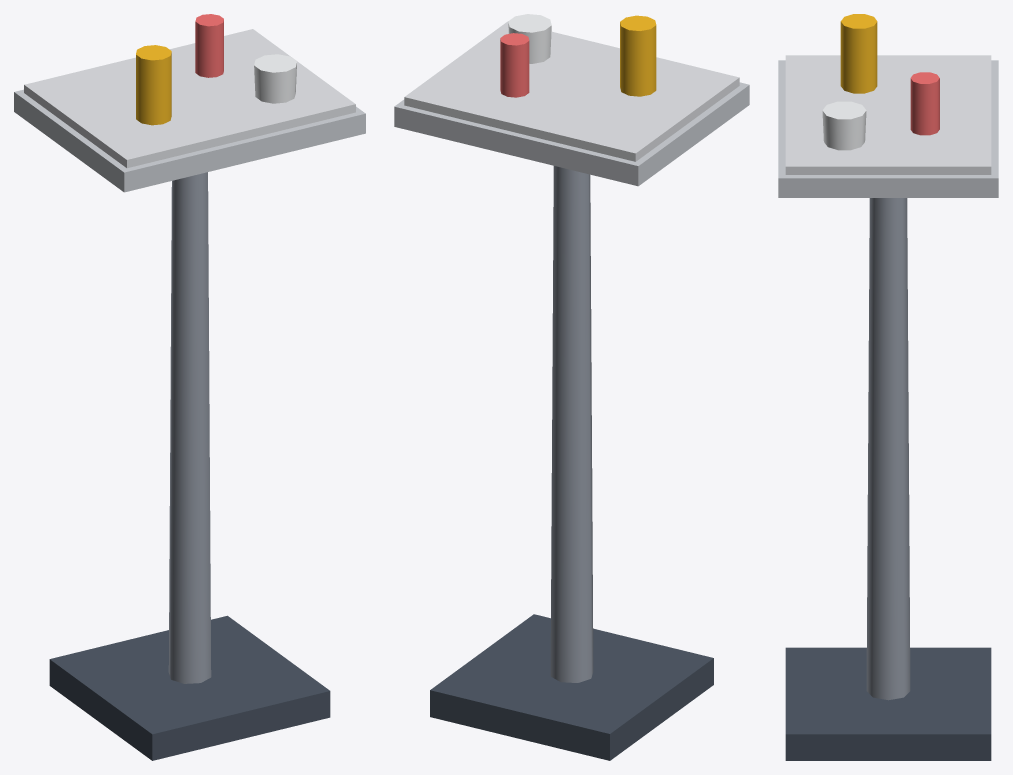
The model's file is parametric-source.glb.
The picture shows the model from 3 angles, left to right: view 1: azimuth 30°, elevation 25°; view 2: azimuth 150°, elevation 25°; view 3: azimuth 270°, elevation 25°; orthographic projection.
Parts seen in each view (by area): view 1: openclinxr.equipment.antipyretic_tray_equipment.base, openclinxr.equipment.antipyretic_tray_equipment.tray_surface, openclinxr.equipment.antipyretic_tray_equipment.stand, openclinxr.equipment.antipyretic_tray_equipment.tray_lip, openclinxr.equipment.antipyretic_tray_equipment.bottle_0, openclinxr.equipment.antipyretic_tray_equipment.med_cup, openclinxr.equipment.antipyretic_tray_equipment.bottle_1; view 2: openclinxr.equipment.antipyretic_tray_equipment.base, openclinxr.equipment.antipyretic_tray_equipment.tray_surface, openclinxr.equipment.antipyretic_tray_equipment.stand, openclinxr.equipment.antipyretic_tray_equipment.tray_lip, openclinxr.equipment.antipyretic_tray_equipment.bottle_0, openclinxr.equipment.antipyretic_tray_equipment.bottle_1, openclinxr.equipment.antipyretic_tray_equipment.med_cup; view 3: openclinxr.equipment.antipyretic_tray_equipment.base, openclinxr.equipment.antipyretic_tray_equipment.stand, openclinxr.equipment.antipyretic_tray_equipment.tray_surface, openclinxr.equipment.antipyretic_tray_equipment.tray_lip, openclinxr.equipment.antipyretic_tray_equipment.bottle_0, openclinxr.equipment.antipyretic_tray_equipment.med_cup, openclinxr.equipment.antipyretic_tray_equipment.bottle_1.
Part boxes in pixels (x1,y1,x2,y2): openclinxr.equipment.antipyretic_tray_equipment.base: (49,615,330,760); openclinxr.equipment.antipyretic_tray_equipment.tray_surface: (24,29,355,168); openclinxr.equipment.antipyretic_tray_equipment.stand: (168,172,211,683); openclinxr.equipment.antipyretic_tray_equipment.tray_lip: (14,89,365,192); openclinxr.equipment.antipyretic_tray_equipment.bottle_0: (136,45,171,125); openclinxr.equipment.antipyretic_tray_equipment.med_cup: (254,54,296,103); openclinxr.equipment.antipyretic_tray_equipment.bottle_1: (195,14,223,77); openclinxr.equipment.antipyretic_tray_equipment.base: (430,614,713,760); openclinxr.equipment.antipyretic_tray_equipment.tray_surface: (404,21,739,161); openclinxr.equipment.antipyretic_tray_equipment.stand: (550,166,593,682); openclinxr.equipment.antipyretic_tray_equipment.tray_lip: (394,82,749,186); openclinxr.equipment.antipyretic_tray_equipment.bottle_0: (620,15,656,96); openclinxr.equipment.antipyretic_tray_equipment.bottle_1: (500,33,529,97); openclinxr.equipment.antipyretic_tray_equipment.med_cup: (508,14,551,63); openclinxr.equipment.antipyretic_tray_equipment.base: (785,647,991,760); openclinxr.equipment.antipyretic_tray_equipment.stand: (866,198,910,700); openclinxr.equipment.antipyretic_tray_equipment.tray_surface: (785,55,991,174); openclinxr.equipment.antipyretic_tray_equipment.tray_lip: (778,60,998,197); openclinxr.equipment.antipyretic_tray_equipment.bottle_0: (840,14,877,93); openclinxr.equipment.antipyretic_tray_equipment.med_cup: (822,101,866,150); openclinxr.equipment.antipyretic_tray_equipment.bottle_1: (910,72,939,135).
Bounding box in the file's own units: 0.38 × 1.01 × 0.3.
